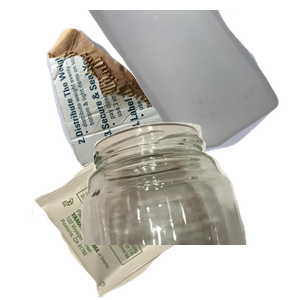cardboard: (44, 26, 209, 186)
glass: (74, 120, 300, 300)
plastic: (84, 10, 300, 157)
trash: (29, 124, 238, 300)
